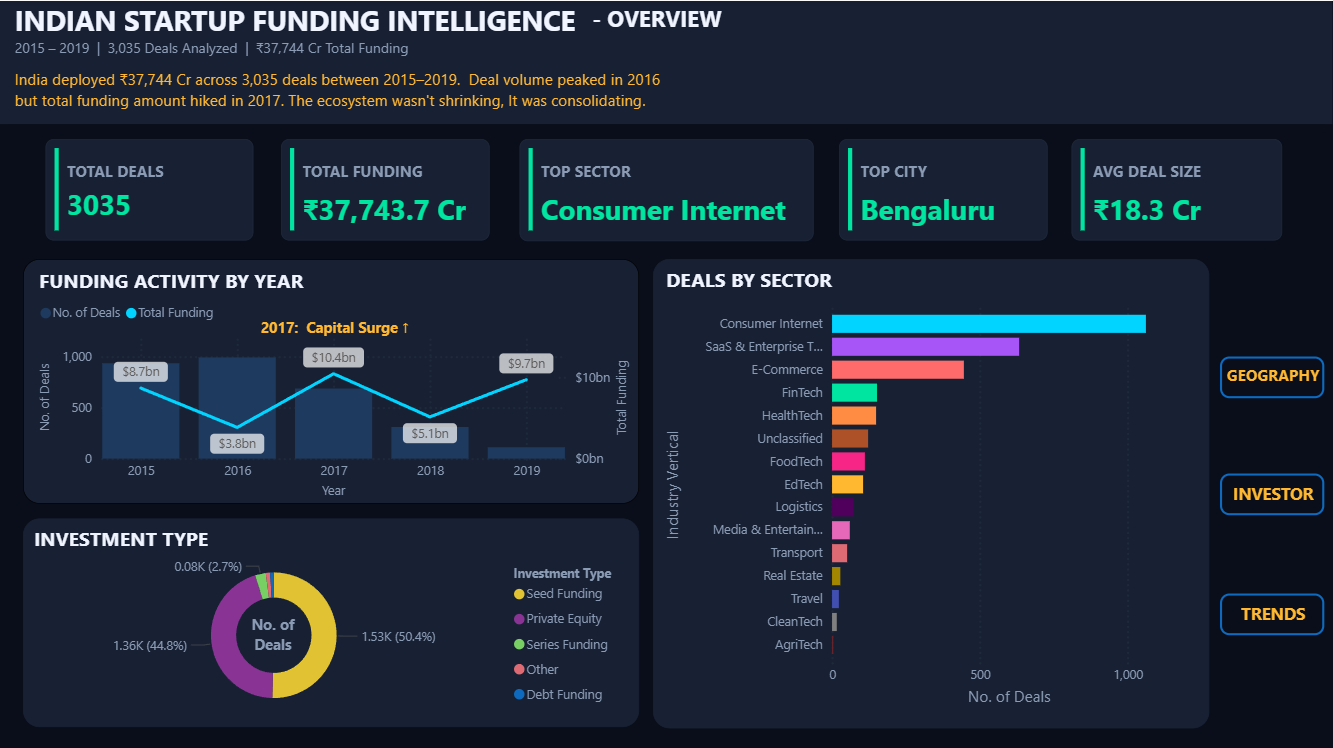

What the dashboard file says about the page in this screenshot:
{"tool":"powerbi","page":{"name":"Page1_Overview","canvas":[1280,720],"ordinal":0},"visuals":[{"type":"textbox","title":"INDIAN STARTUP FUNDING INTELLIGENCE","box":[0,0,1279.5,118.1],"z":0},{"type":"cardVisual","title":"TOTAL DEALS","fields":{"Data":["CountNonNull(fact_funding.funding_id)"]},"box":[45,132.5,199.4,97.5],"z":1000},{"type":"cardVisual","fields":{"Data":["fact_funding.Top Sector"]},"box":[499,132.3,281.9,97.8],"z":2000},{"type":"cardVisual","fields":{"Data":["fact_funding.TOTAL FUNDING"]},"box":[270.6,132.5,200,97.5],"z":3000},{"type":"cardVisual","fields":{"Data":["fact_funding.AVG DEAL SIZE"]},"box":[1028.8,132.5,201.9,97.5],"z":4000},{"type":"cardVisual","fields":{"Data":["fact_funding.Top City"]},"box":[805,132.5,200,97.5],"z":5000},{"type":"lineClusteredColumnComboChart","title":"FUNDING ACTIVITY BY YEAR","fields":{"Category":["dim_date.year"],"Y":["CountNonNull(fact_funding.funding_id)"],"Y2":["Sum(fact_funding.amount_in_usd)"]},"box":[22.7,246.8,590.5,234.7],"z":6000},{"type":"textbox","box":[245.3,298.3,160.5,30.3],"z":7000},{"type":"barChart","title":"DEALS BY SECTOR","fields":{"Category":["dim_startup.industry_vertical"],"Y":["CountNonNull(fact_funding.funding_id)"]},"box":[626.9,246.8,533,449.7],"z":8000},{"type":"donutChart","title":"INVESTMENT TYPE","fields":{"Y":["CountNonNull(fact_funding.funding_id)"],"Category":["dim_investment_type.Investment Group"]},"box":[22.7,496.7,590.5,199.9],"z":9000},{"type":"textbox","box":[232,583,62.1,48.5],"z":10000},{"type":"textbox","box":[10.6,59.1,825.2,60.6],"z":11000},{"type":"actionButton","title":"GEOGRAPHY ","box":[1170.5,340.7,100,40],"z":11006},{"type":"actionButton","title":"INVESTOR","box":[1170.5,452.7,100,40],"z":11007},{"type":"actionButton","title":"TRENDS","box":[1170.5,567.8,100,40],"z":11008},{"type":"textbox","title":"- OVERVIEW","box":[563.3,2,299.8,33.3],"z":11009}]}

Visuals, with their boxes in screenshot pixels (x1, y1, x2, y2), scaled from the page's 1280x720 canvas onto the 1333x748 screenshot:
"INDIAN STARTUP FUNDING INTELLIGENCE" textbox: select_region(0, 0, 1332, 123)
"TOTAL DEALS" cardVisual: select_region(47, 138, 255, 239)
cardVisual - fact_funding.Top Sector: select_region(520, 137, 813, 239)
cardVisual - fact_funding.TOTAL FUNDING: select_region(282, 138, 490, 239)
cardVisual - fact_funding.AVG DEAL SIZE: select_region(1071, 138, 1282, 239)
cardVisual - fact_funding.Top City: select_region(838, 138, 1047, 239)
"FUNDING ACTIVITY BY YEAR" lineClusteredColumnComboChart: select_region(24, 256, 639, 500)
textbox: select_region(255, 310, 423, 341)
"DEALS BY SECTOR" barChart: select_region(653, 256, 1208, 724)
"INVESTMENT TYPE" donutChart: select_region(24, 516, 639, 724)
textbox: select_region(242, 606, 306, 656)
textbox: select_region(11, 61, 870, 124)
"GEOGRAPHY " actionButton: select_region(1219, 354, 1323, 396)
"INVESTOR" actionButton: select_region(1219, 470, 1323, 512)
"TRENDS" actionButton: select_region(1219, 590, 1323, 631)
"- OVERVIEW" textbox: select_region(587, 2, 899, 37)
